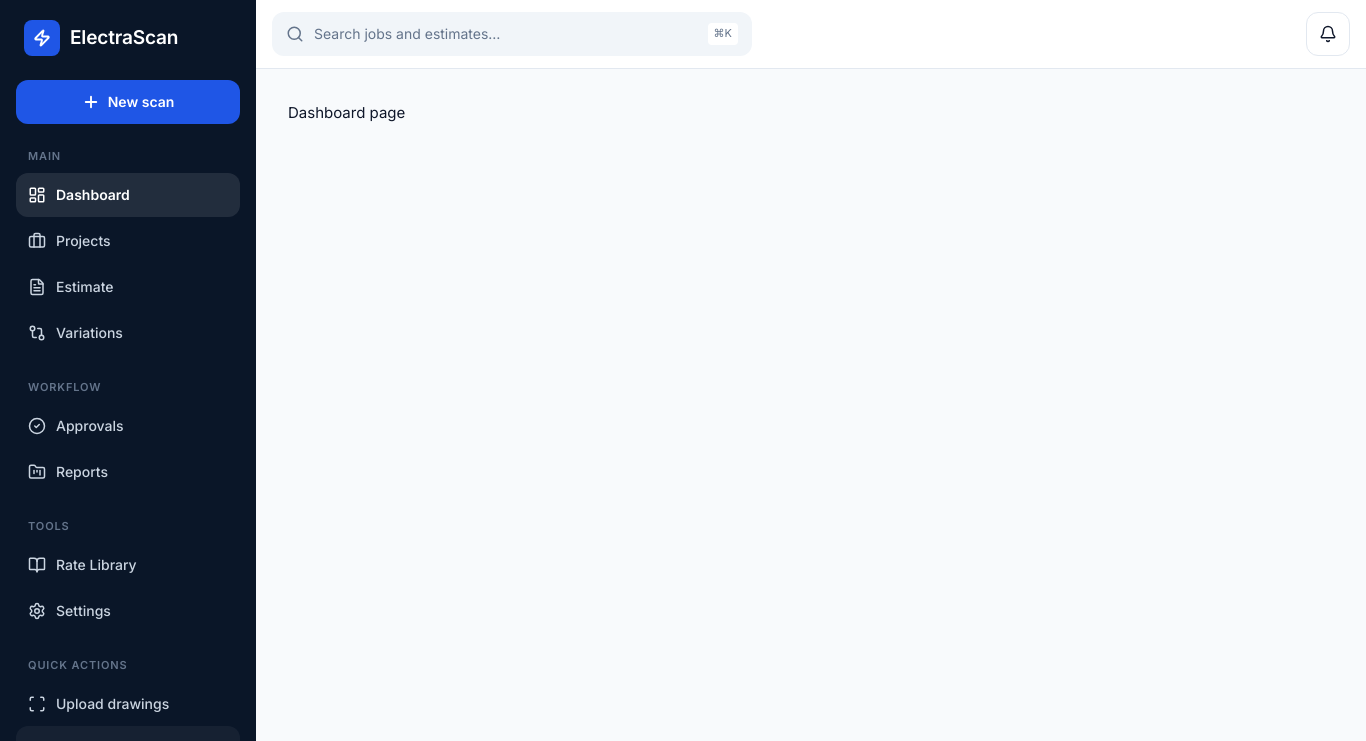
DesktopShell V1 navy chrome › opens a real search palette from the header control
Click the button with aria-label "search jobs, estimates, and plans": (407, 34) top-left (272, 12), bottom-right (752, 56)
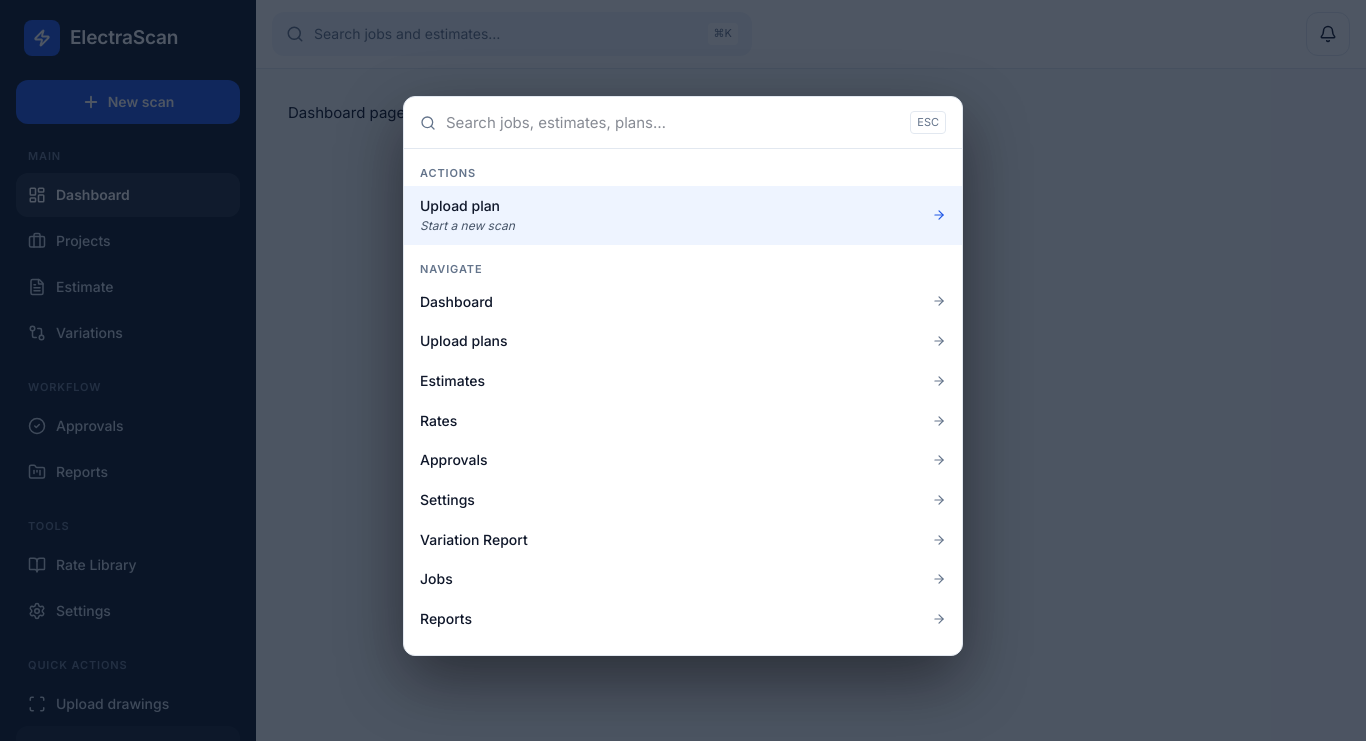
Expected: the dialog named "search jobs, estimates, and pages" is shown, top-left (403, 96), bottom-right (963, 656)
Expected: the text "Upload plan" is shown, top-left (420, 197), bottom-right (500, 214)
Expected: the field with placeholder "Search jobs, estimates, plans…" is shown, top-left (446, 111), bottom-right (900, 134)
